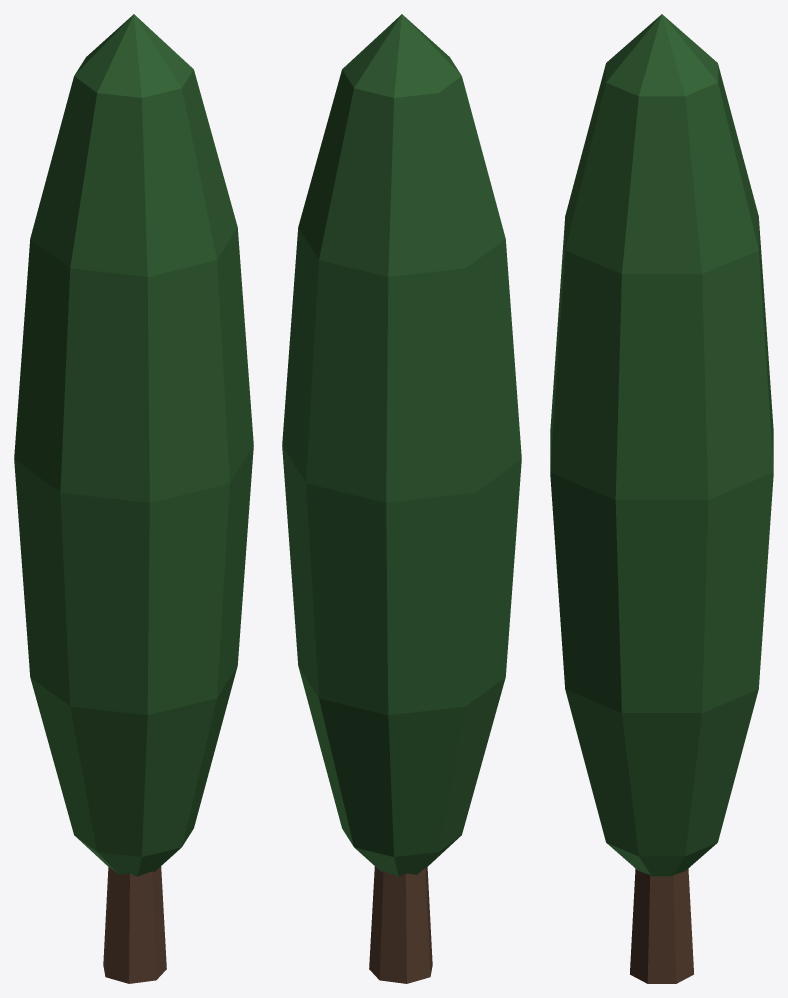
File: tree_cypress.glb
The picture shows the model from 3 angles, left to right: view 1: azimuth 30°, elevation 25°; view 2: azimuth 150°, elevation 25°; view 3: azimuth 270°, elevation 25°; orthographic projection.
Parts seen in each view (by area): view 1: tree_cypress; view 2: tree_cypress; view 3: tree_cypress.
Part boxes in pixels (x1,y1,x2,y2): tree_cypress: (14,14,253,983); tree_cypress: (282,14,521,983); tree_cypress: (550,14,773,983).
Bounding box in the file's own units: 1.02 × 4.8 × 1.02.
